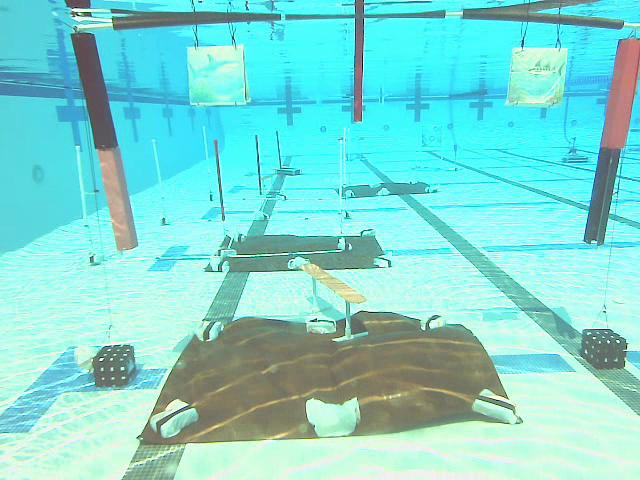black_poster: (212, 143, 226, 221), (251, 136, 262, 195), (276, 130, 282, 170)
divider: (354, 19, 364, 124)
left_gate_poster: (69, 34, 139, 251)
right_gate_poster: (581, 39, 639, 247)
shark: (186, 46, 248, 104)
swordfish: (509, 47, 569, 107)
white_poster: (74, 144, 92, 228), (149, 137, 166, 201), (200, 124, 213, 190), (339, 129, 346, 230)
